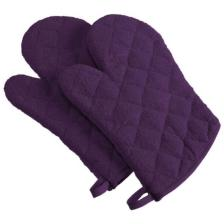purple: (4, 14, 220, 210)
